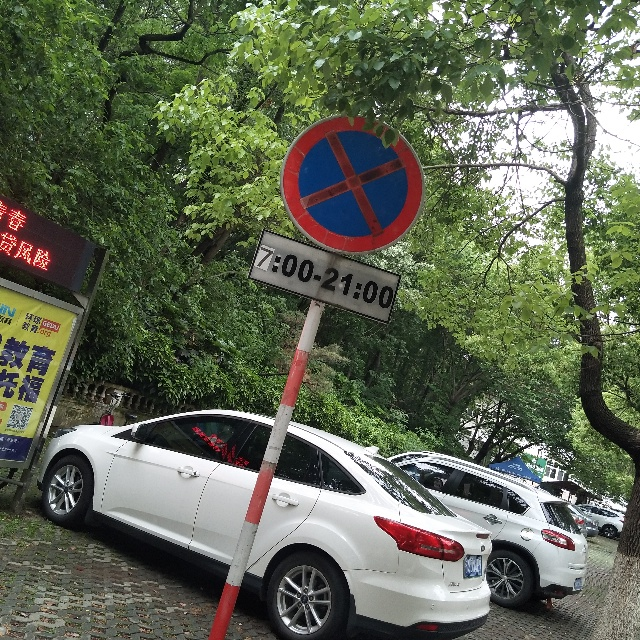stop: (307, 125, 405, 242)
